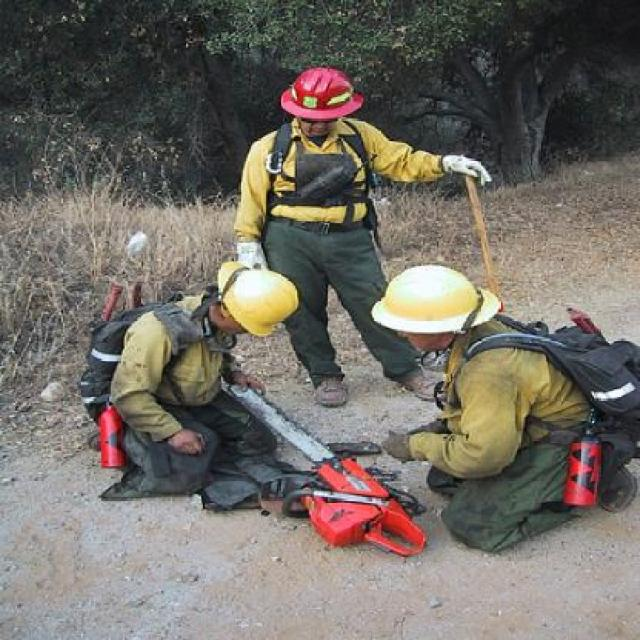Chainsaw: (232, 378, 432, 556)
